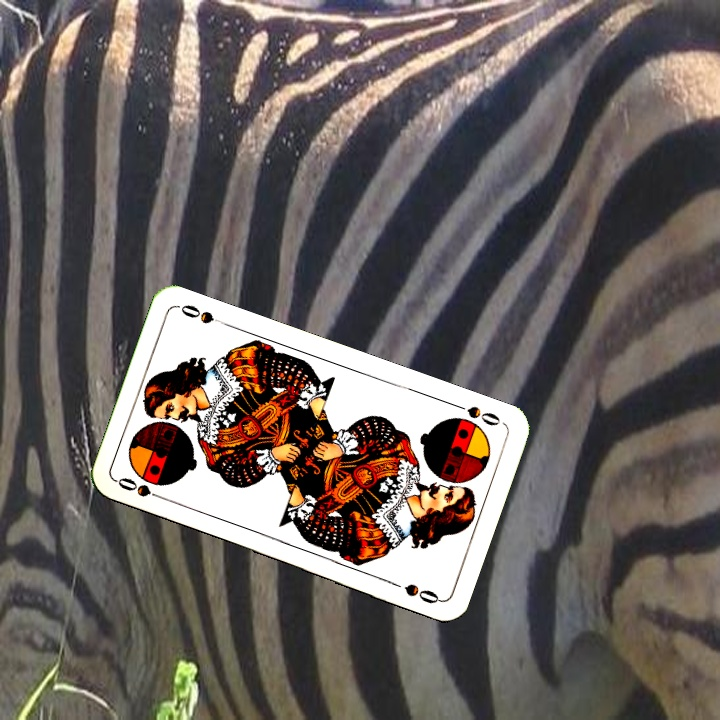SO: (113, 473, 170, 504), (449, 399, 503, 429)
